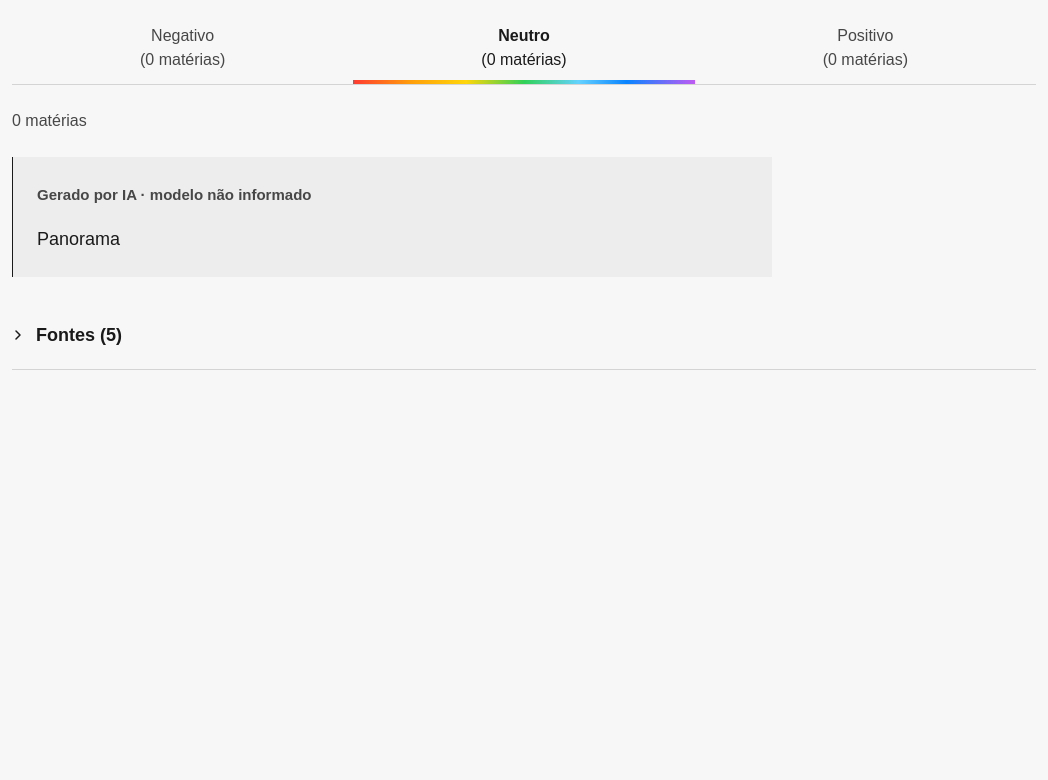
Test case: agrupa alfabeticamente, ordena datas e recusa URLs inseguras
The width and height of the screenshot is (1048, 780).
Click the heading "Fontes (5)".
click(79, 335)  # box [36,325,122,345]
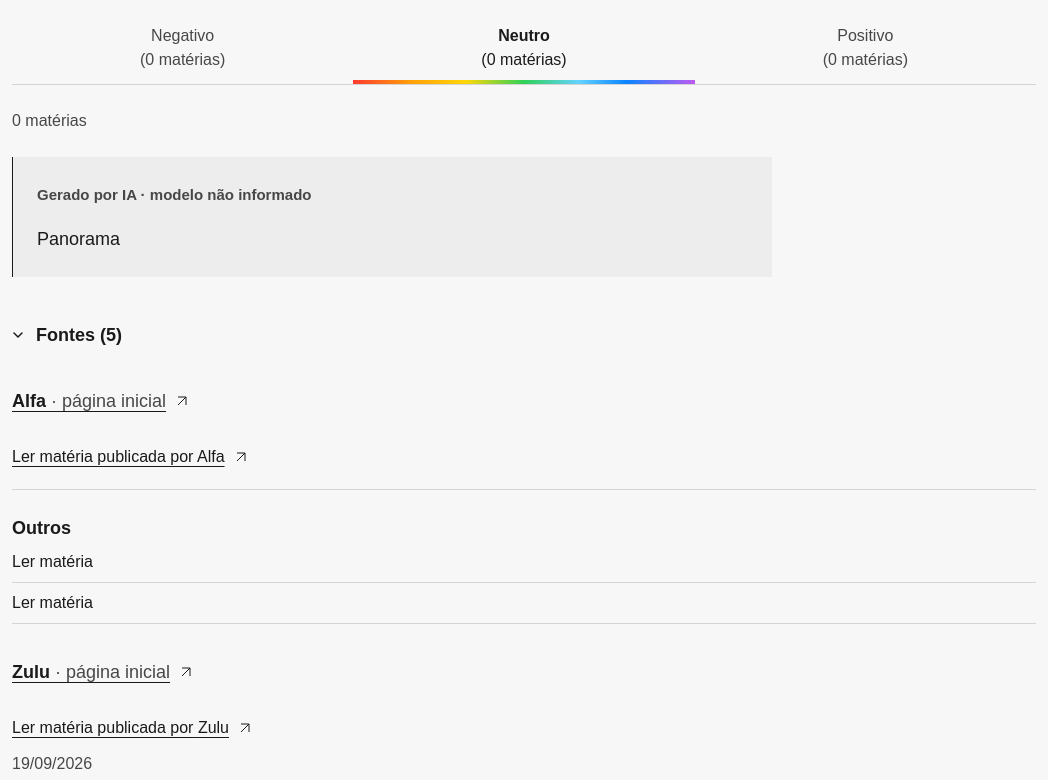
Expected: the text "Ler matéria" is shown 2 times, [12,553,93,570]; [12,594,93,611]
